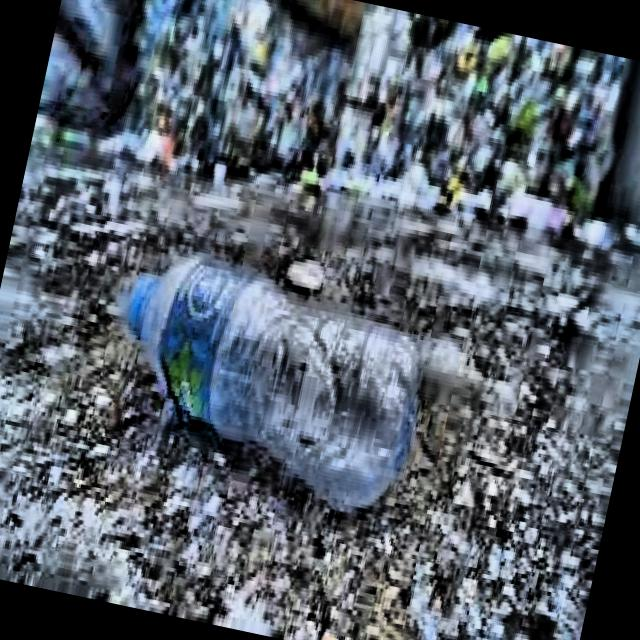plastic bottle: (128, 256, 423, 507)
